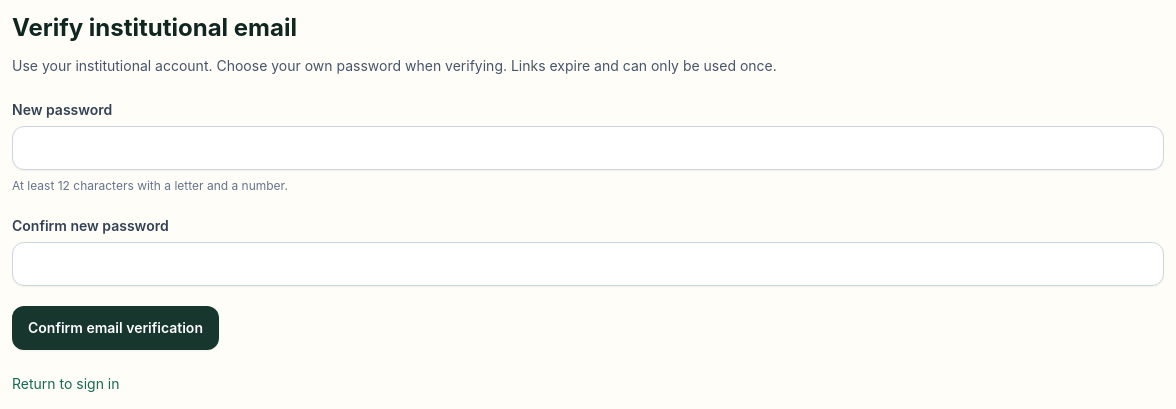
Test: keeps verification tokens out of history and requires explicit password confirmation
Type "ChosenPassword123!" into the password field labelled "New password" at (588, 148), box x1=12 y1=126 x2=1164 y2=170
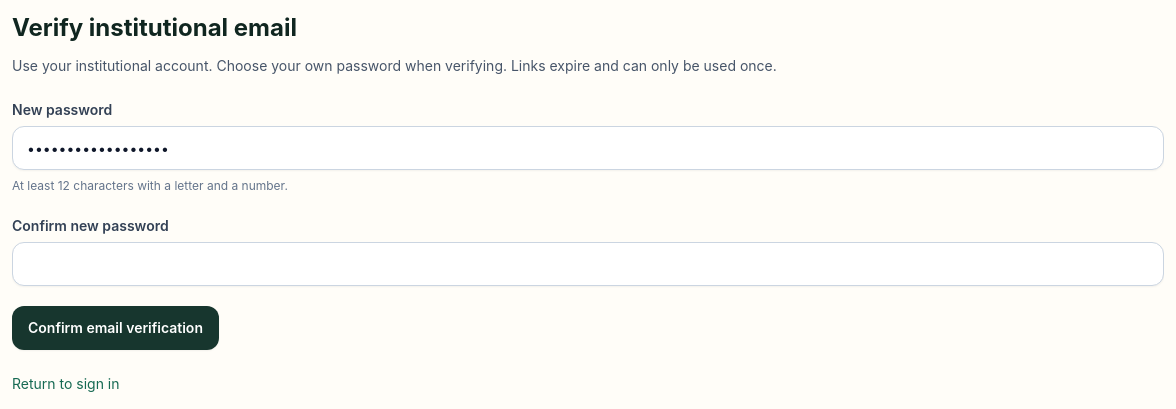
Type "ChosenPassword123!" into the password field labelled "Confirm new password" at (588, 264), box x1=12 y1=242 x2=1164 y2=286
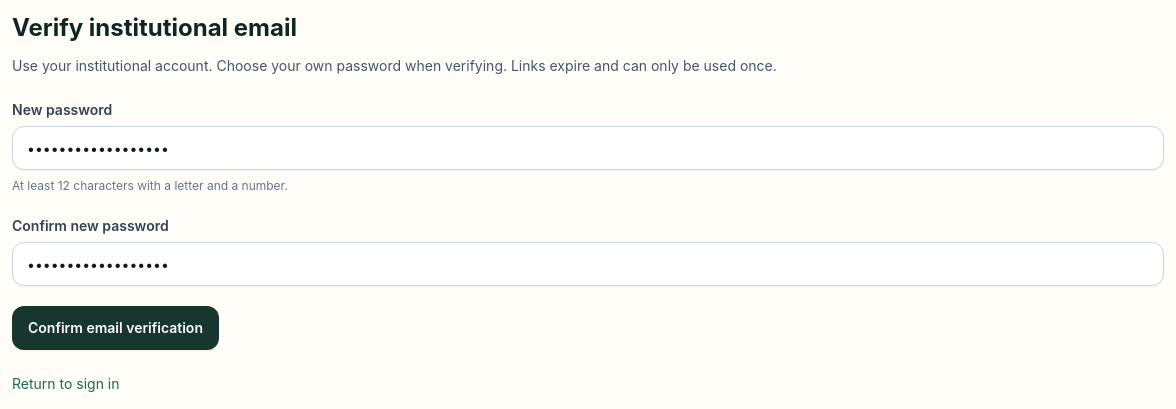
Click the button "Confirm email verification" at (116, 328), box x1=12 y1=306 x2=219 y2=350
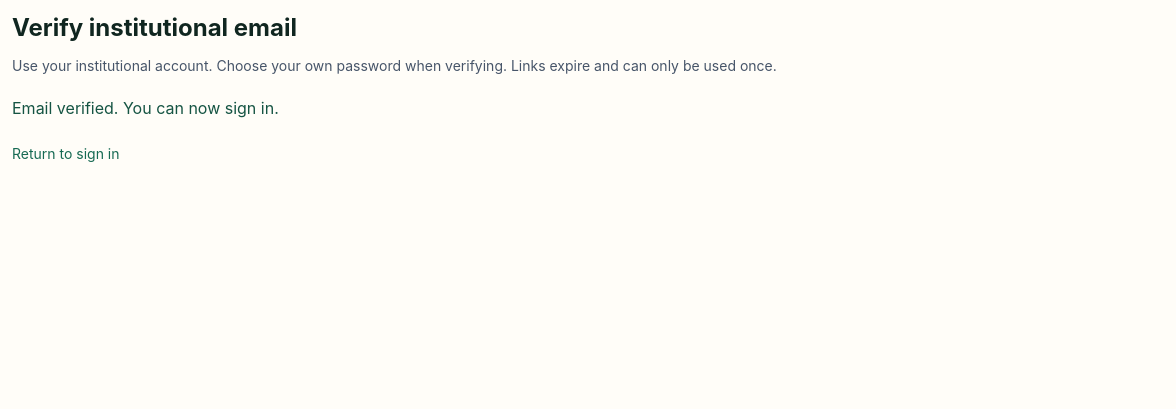
Expected: the message shows "Email verified", x1=12 y1=98 x2=279 y2=118
